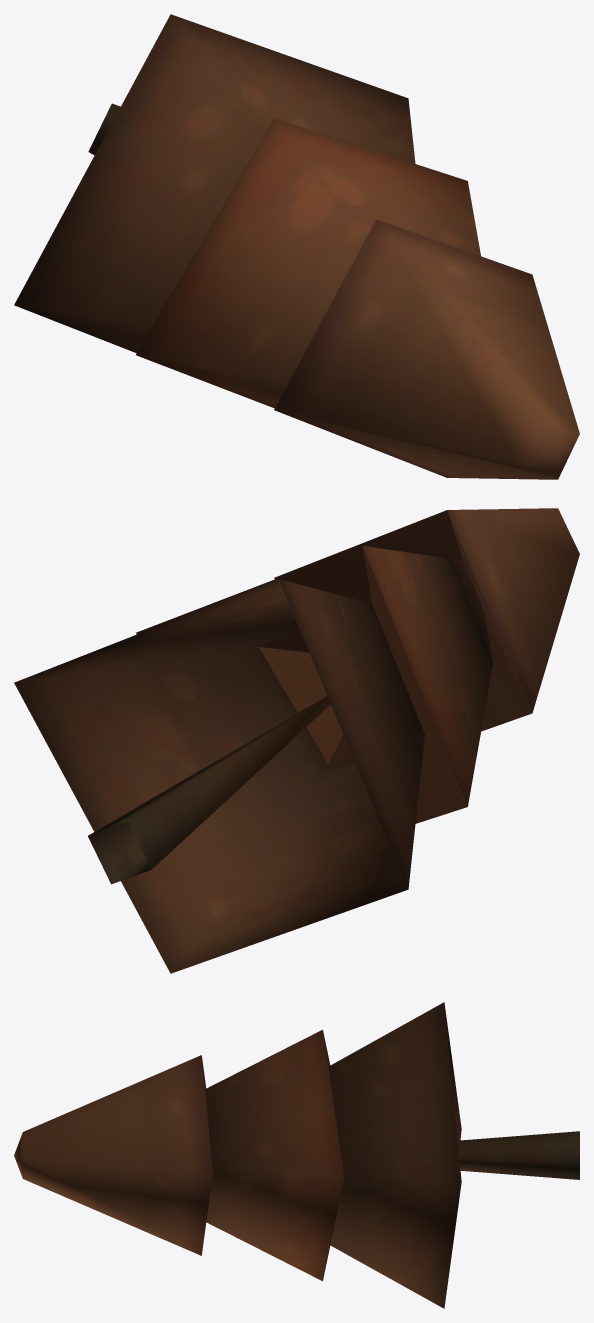
Rendered from tree_01.obj.
3 renders of one model, top to bottom at view 1: azimuth 30°, elevation 25°; view 2: azimuth 150°, elevation 25°; view 3: azimuth 270°, elevation 25°, orthographic. The views are drawn at different scales.
Bounding box in the file's own units: 3.07 × 3.13 × 5.88.
Materials: 1 (1 with a texture image).
